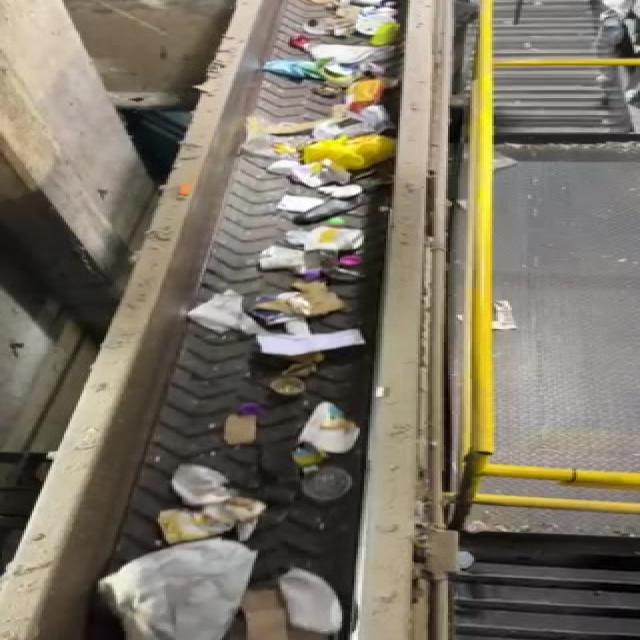paper: (92, 535, 255, 640), (150, 456, 281, 534), (282, 401, 365, 459), (212, 399, 267, 443)
pp: (268, 566, 356, 635), (290, 463, 360, 511), (252, 373, 334, 401)
